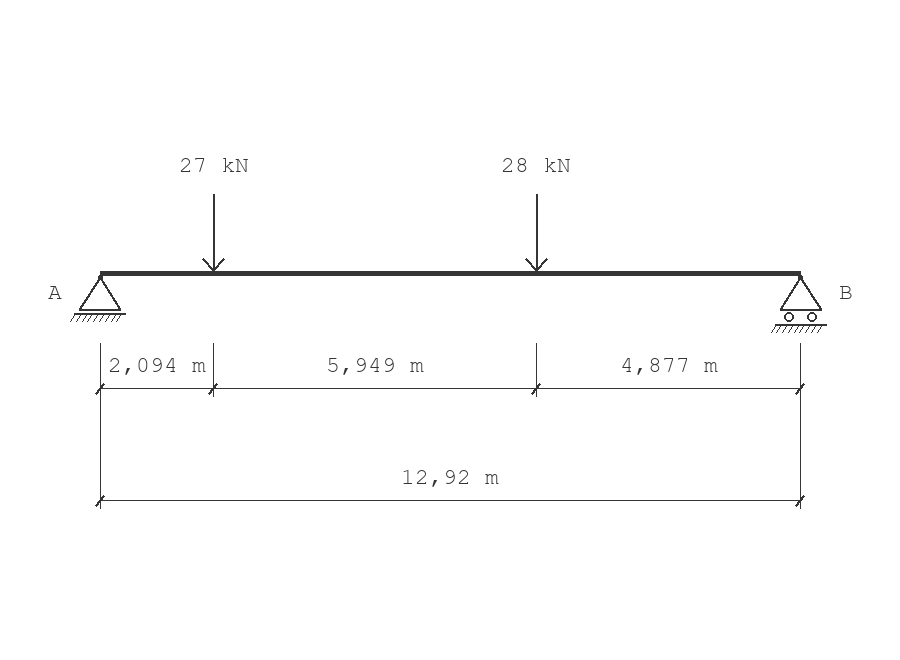pin_support: (70, 275, 126, 322)
point_load: (202, 194, 225, 272), (525, 194, 548, 272)
roller_support: (771, 275, 827, 333)
